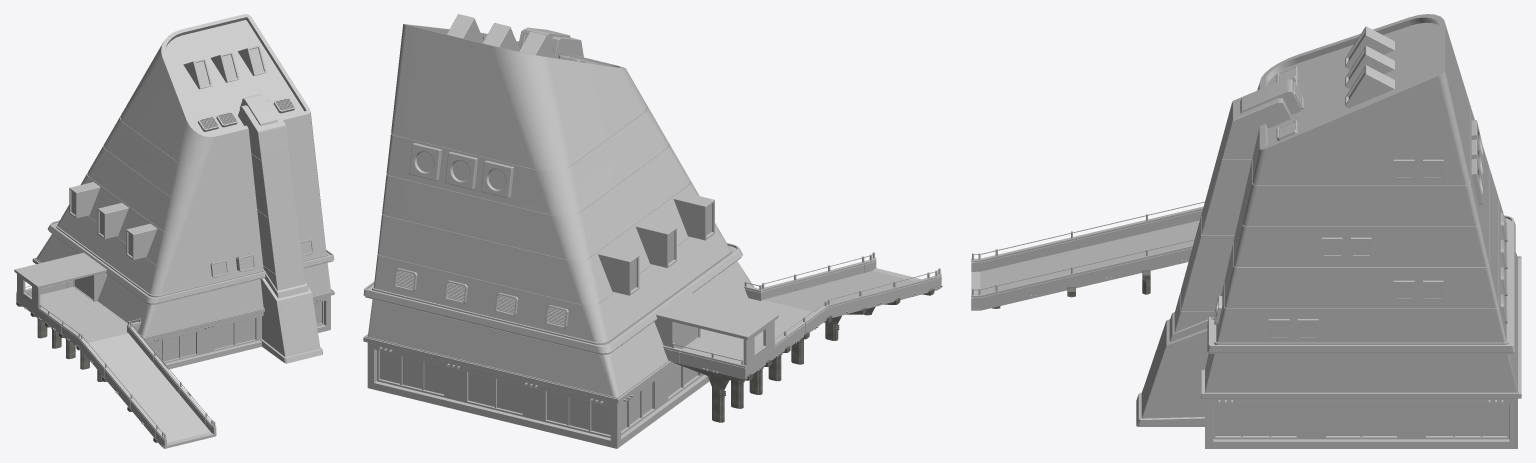
Rendered from Kitbash3D_Brutalist_Building05.fbx.
The picture shows the model from 3 angles, left to right: view 1: azimuth 30°, elevation 25°; view 2: azimuth 150°, elevation 25°; view 3: azimuth 270°, elevation 25°; orthographic projection. The views are drawn at different scales.
Parts seen in each view (by area): view 1: SM_Bldg_A_Main_Bldg, SM_Bldg_A_Side_Element, SM_Bldg_A_StoneFloor, SM_Bldg_A_ConcGeneral, SM_Bldg_A_Ramp_Walls, SM_Bldg_A_WindowsGlass, SM_Bldg_A_Entrance, SM_Bldg_A_Mull_Slats_Frames_Rails, SM_Bldg_A_ConcFormNoHoles, SM_Bldg_A_ConcFormHoles; view 2: SM_Bldg_A_Main_Bldg, SM_Bldg_A_ConcGeneral, SM_Bldg_A_WindowsGlass, SM_Bldg_A_Mull_Slats_Frames_Rails, SM_Bldg_A_Ramp_Walls, SM_Bldg_A_StoneFloor, SM_Bldg_A_Entrance, SM_Bldg_A_ConcFormNoHoles, SM_Bldg_A_Side_Element; view 3: SM_Bldg_A_Main_Bldg, SM_Bldg_A_Side_Element, SM_Bldg_A_WindowsGlass, SM_Bldg_A_Ramp_Walls, SM_Bldg_A_Mull_Slats_Frames_Rails, SM_Bldg_A_ConcGeneral, SM_Bldg_A_StoneFloor.
Part boxes in pixels (<box>): SM_Bldg_A_Main_Bldg: <box>32,14,334,369</box>; SM_Bldg_A_Side_Element: <box>238,94,322,363</box>; SM_Bldg_A_StoneFloor: <box>40,287,210,442</box>; SM_Bldg_A_ConcGeneral: <box>24,45,322,447</box>; SM_Bldg_A_Ramp_Walls: <box>16,280,216,448</box>; SM_Bldg_A_WindowsGlass: <box>71,48,321,361</box>; SM_Bldg_A_Entrance: <box>14,252,107,314</box>; SM_Bldg_A_Mull_Slats_Frames_Rails: <box>25,99,323,438</box>; SM_Bldg_A_ConcFormNoHoles: <box>16,301,190,442</box>; SM_Bldg_A_ConcFormHoles: <box>67,288,213,445</box>; SM_Bldg_A_Main_Bldg: <box>363,24,754,448</box>; SM_Bldg_A_ConcGeneral: <box>379,14,942,403</box>; SM_Bldg_A_WindowsGlass: <box>380,151,711,434</box>; SM_Bldg_A_Mull_Slats_Frames_Rails: <box>377,34,940,437</box>; SM_Bldg_A_Ramp_Walls: <box>663,257,941,379</box>; SM_Bldg_A_StoneFloor: <box>684,271,913,363</box>; SM_Bldg_A_Entrance: <box>654,292,778,375</box>; SM_Bldg_A_ConcFormNoHoles: <box>673,288,934,422</box>; SM_Bldg_A_Side_Element: <box>518,27,583,58</box>; SM_Bldg_A_Main_Bldg: <box>1201,14,1521,448</box>; SM_Bldg_A_Side_Element: <box>1136,79,1302,426</box>; SM_Bldg_A_WindowsGlass: <box>1215,34,1507,435</box>; SM_Bldg_A_Ramp_Walls: <box>971,206,1203,310</box>; SM_Bldg_A_Mull_Slats_Frames_Rails: <box>972,67,1509,439</box>; SM_Bldg_A_ConcGeneral: <box>973,26,1507,403</box>; SM_Bldg_A_StoneFloor: <box>980,220,1199,293</box>.
Size of the model in its own units: 22.21 by 21.89 by 28.58.
